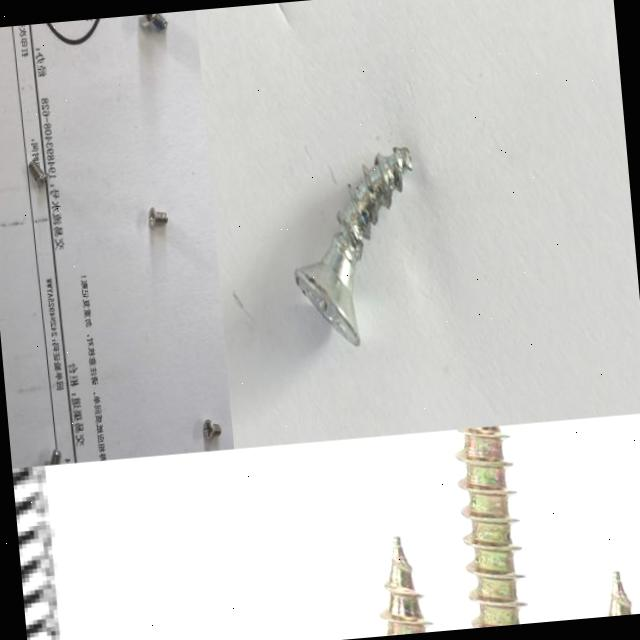Screw: (294, 146, 412, 345), (455, 426, 523, 628), (379, 536, 429, 636), (26, 156, 52, 190), (136, 12, 170, 37), (198, 414, 224, 446), (144, 204, 170, 232), (38, 445, 64, 466)
